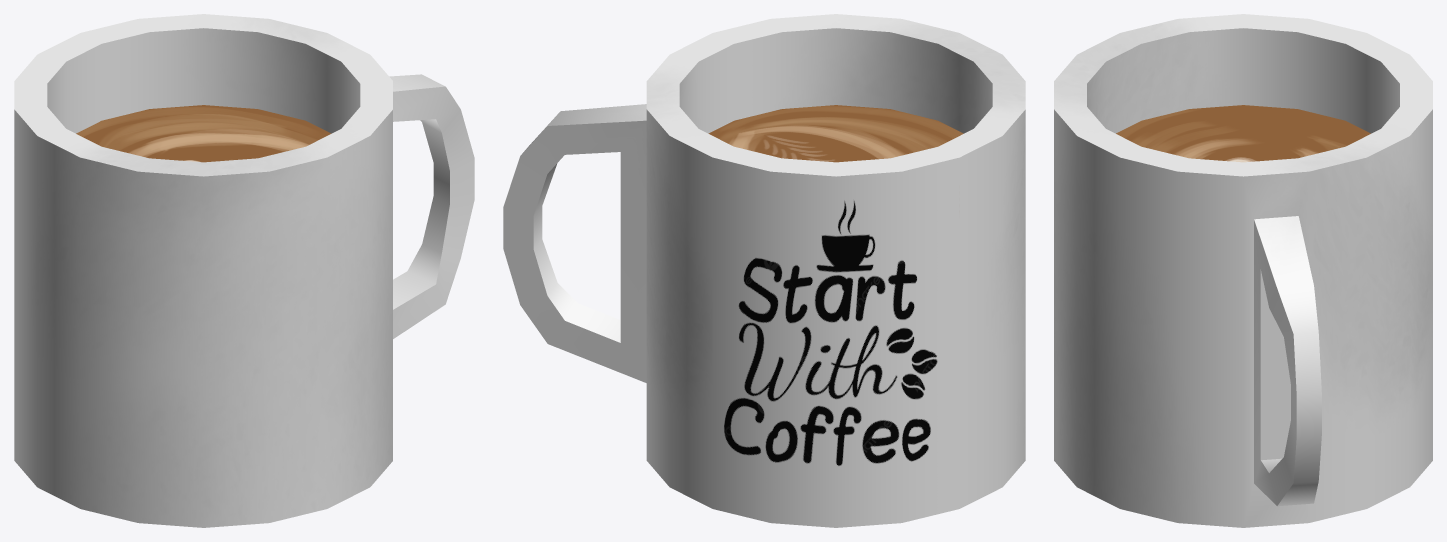
File: taza cafe.fbx
3 views of the same model, side by side, from view 1: azimuth 30°, elevation 25°; view 2: azimuth 150°, elevation 25°; view 3: azimuth 270°, elevation 25° (orthographic).
Visible parts, largest first — view 1: Cylinder001; view 2: Cylinder001; view 3: Cylinder001.
Boxes of the visible parts, x1,y1,x2,y2 form: Cylinder001: (14, 14, 474, 527); Cylinder001: (503, 14, 1025, 527); Cylinder001: (1054, 14, 1432, 527).
Bounding box in the file's own units: 16.53 × 11.96 × 11.69.
